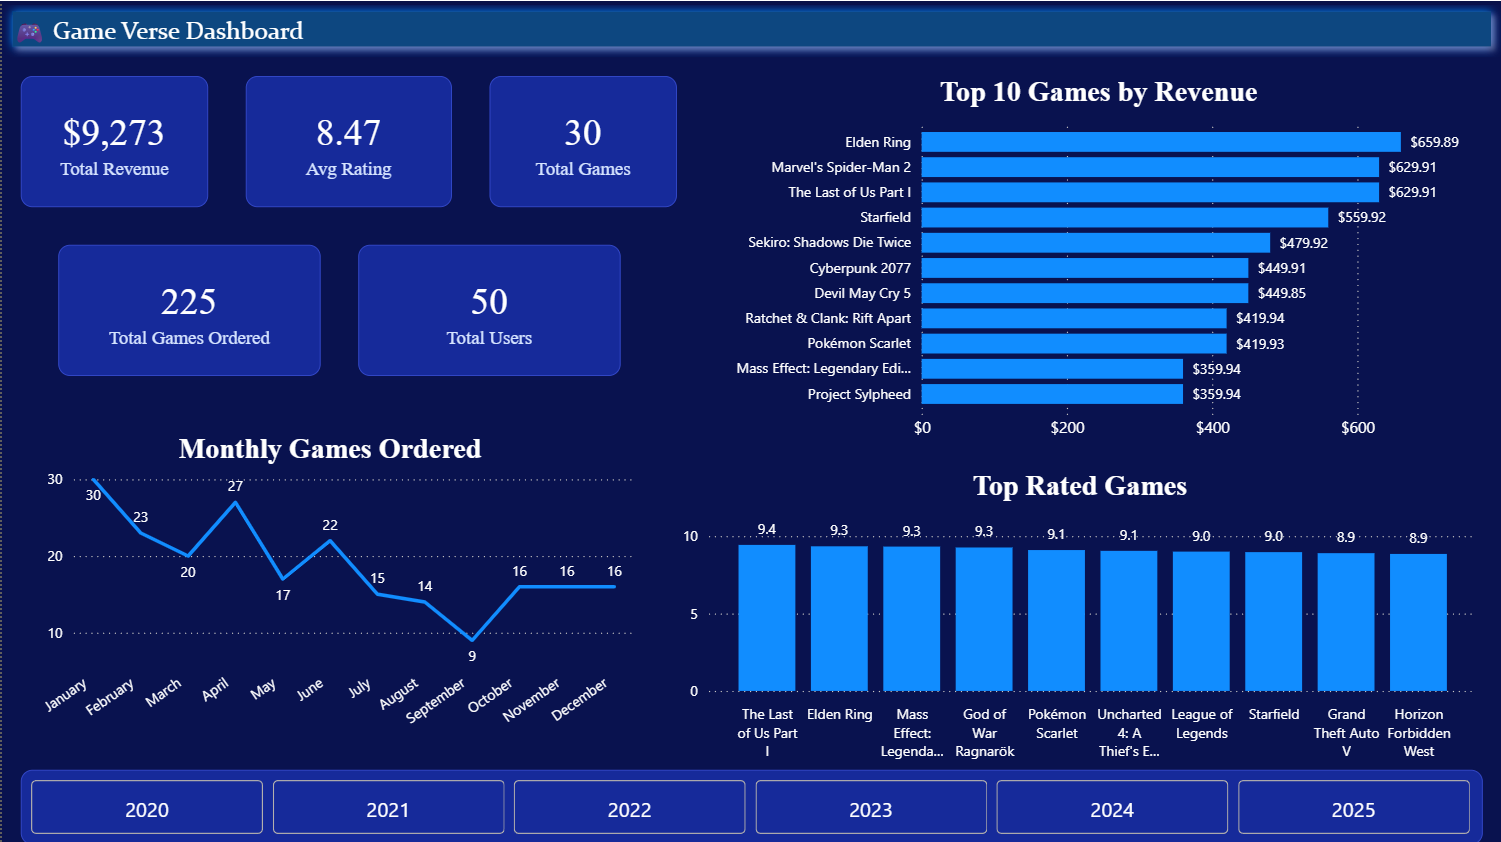

The page's visual inventory and layout, read from the dashboard file:
{"tool":"powerbi","page":{"name":"Dashboard","canvas":[1280,720],"ordinal":0},"visuals":[{"type":"card","fields":{"Values":["Measure.Total_Revenue"]},"box":[16,64.1,160,112],"z":0},{"type":"card","fields":{"Values":["Measure.Total_Orders"]},"box":[48,208,224,112],"z":1000},{"type":"card","fields":{"Values":["Measure.Total_Users"]},"box":[304,208,224,112],"z":2000},{"type":"card","fields":{"Values":["Measure.Total_Games"]},"box":[416,64.1,160,112],"z":3000},{"type":"card","fields":{"Values":["Measure.Avg_Rating"]},"box":[208,64.1,176,112],"z":4000},{"type":"clusteredBarChart","title":"Top 10 Games by Revenue","fields":{"Y":["Measure.Revenue_per_game"],"Category":["public games.title"]},"box":[608,64,656,320],"z":5000},{"type":"clusteredColumnChart","title":"Top Rated Games","fields":{"Category":["public games.title"],"Y":["Measure.Avg_Rating"]},"box":[576,400,688,256],"z":6000},{"type":"lineChart","title":"Monthly Games Ordered","fields":{"Y":["Measure.Total_Orders"],"Category":["public orders.order_date.Variation.Date Hierarchy.Month"]},"box":[16,368,528,272],"z":7000},{"type":"shape","box":[0,0,1280,48],"z":8000},{"type":"advancedSlicerVisual","fields":{"Values":["public orders.order_date.Variation.Date Hierarchy.Year"]},"box":[16,656,1248,64],"z":9000}]}

Visuals, with their boxes in screenshot pixels (x1, y1, x2, y2), scaled from the page's 1280x720 canvas onto the 1501x842 screenshot:
card - Measure.Total_Revenue: <region>19, 75, 206, 206</region>
card - Measure.Total_Orders: <region>56, 243, 319, 374</region>
card - Measure.Total_Users: <region>356, 243, 619, 374</region>
card - Measure.Total_Games: <region>488, 75, 675, 206</region>
card - Measure.Avg_Rating: <region>244, 75, 450, 206</region>
"Top 10 Games by Revenue" clusteredBarChart: <region>713, 75, 1482, 449</region>
"Top Rated Games" clusteredColumnChart: <region>675, 468, 1482, 767</region>
"Monthly Games Ordered" lineChart: <region>19, 430, 638, 748</region>
shape: <region>0, 0, 1500, 56</region>
advancedSlicerVisual - public orders.order_date.Variation.Date Hierarchy.Year: <region>19, 767, 1482, 841</region>
